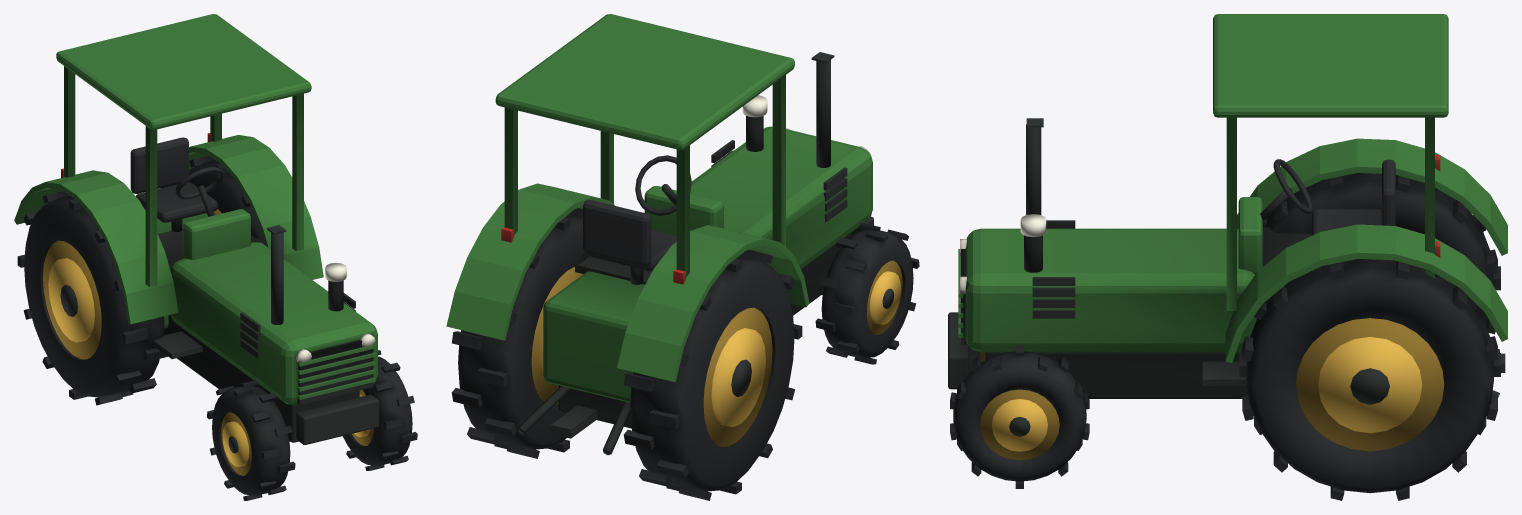
File: tractor.glb
3 views of the same model, side by side, from view 1: azimuth 30°, elevation 25°; view 2: azimuth 150°, elevation 25°; view 3: azimuth 270°, elevation 25° (orthographic). The views are drawn at different scales.
Visible parts, largest first — view 1: tractor; view 2: tractor; view 3: tractor.
Boxes of the visible parts, x1,y1,x2,y2 form: tractor: [14, 14, 417, 500]; tractor: [446, 14, 919, 500]; tractor: [948, 14, 1507, 500].
Size of the model in its own units: 1.62 by 2.5 by 3.28.
